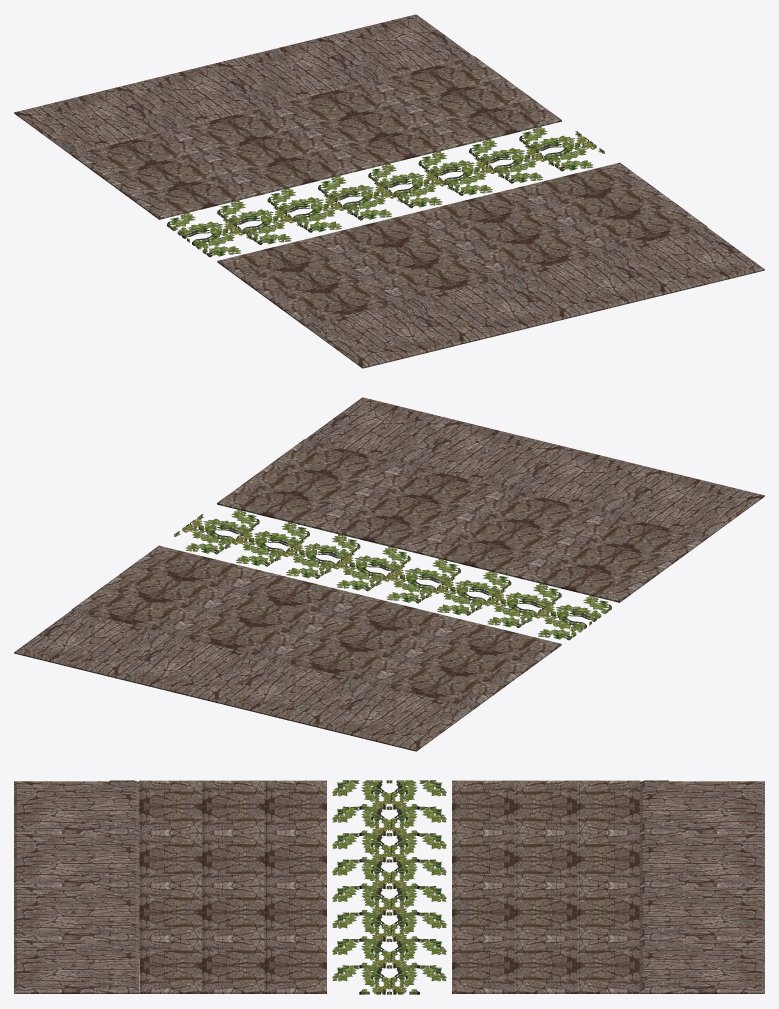
The model's file is floor_14x24m002.FBX.
The picture shows the model from 3 angles, top to bottom: view 1: azimuth 30°, elevation 25°; view 2: azimuth 150°, elevation 25°; view 3: azimuth 270°, elevation 25°; orthographic projection. The views are drawn at different scales.
Parts seen in each view (by area): view 1: floor_14x24m002; view 2: floor_14x24m002; view 3: floor_14x24m002.
Boxes of the visible parts, x1=… form: floor_14x24m002: x1=14, y1=14, x2=764, y2=368; floor_14x24m002: x1=14, y1=397, x2=764, y2=751; floor_14x24m002: x1=14, y1=780, x2=764, y2=994.
Size of the model in its own units: 16.01 by 24 by 0.1621.
